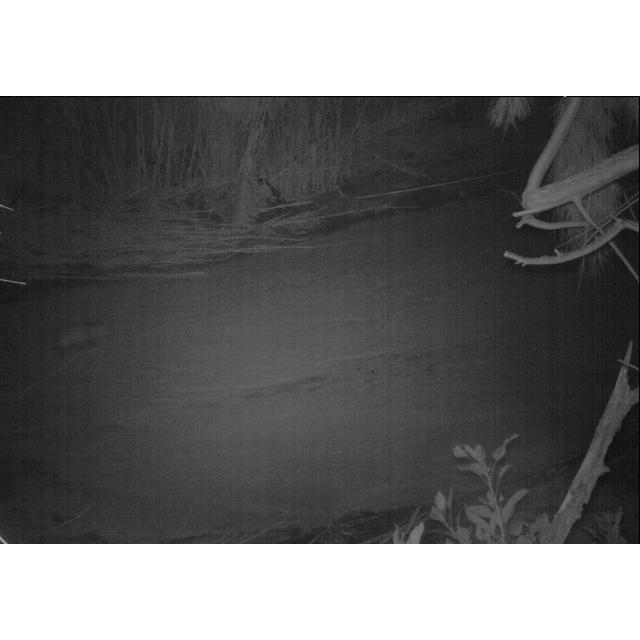animals: (57, 315, 113, 351)
